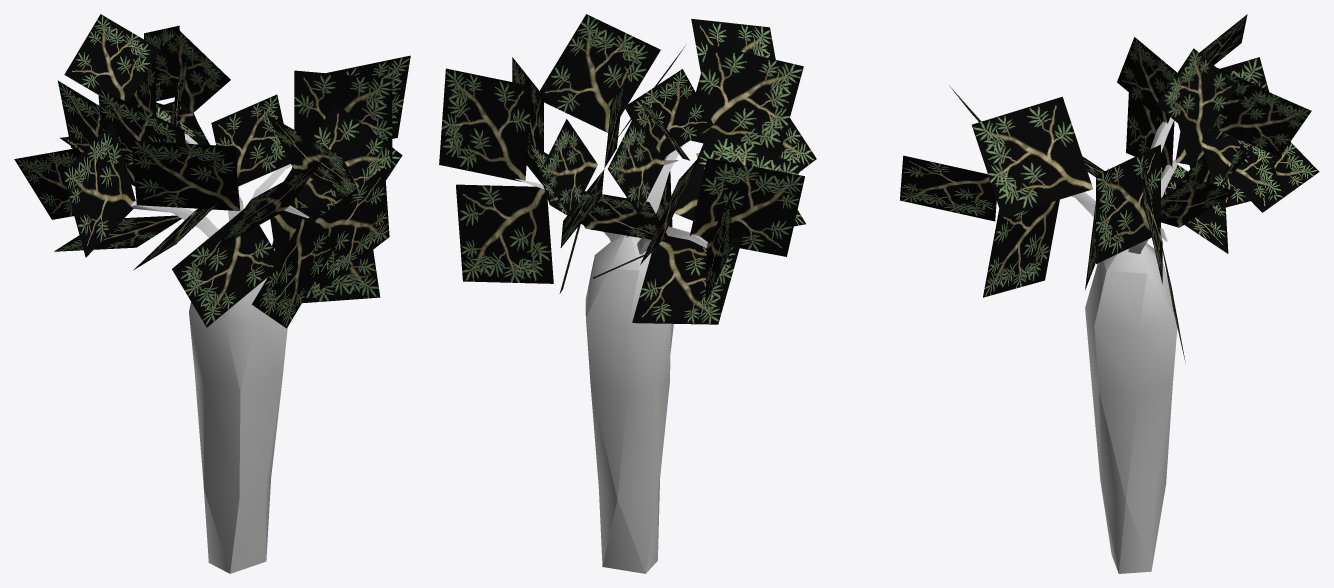
Rendered from pac_LOD1.fbx.
3 renders of one model, left to right at view 1: azimuth 30°, elevation 25°; view 2: azimuth 150°, elevation 25°; view 3: azimuth 270°, elevation 25°, orthographic. The views are drawn at different scales.
Parts seen in each view (by area): view 1: Mesh Object; view 2: Mesh Object; view 3: Mesh Object.
Part boxes in pixels (<box>): Mesh Object: <box>14,14,410,573</box>; Mesh Object: <box>439,14,816,573</box>; Mesh Object: <box>900,14,1319,573</box>.
Bounding box in the file's own units: 6.21 × 8.92 × 7.35.
